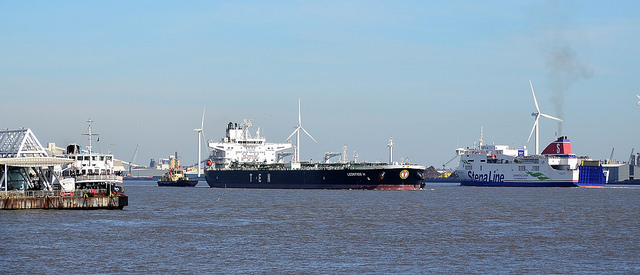cruise_ship: (451, 136, 615, 191)
tanker: (200, 121, 429, 191)
tug_boat: (151, 156, 205, 189)
